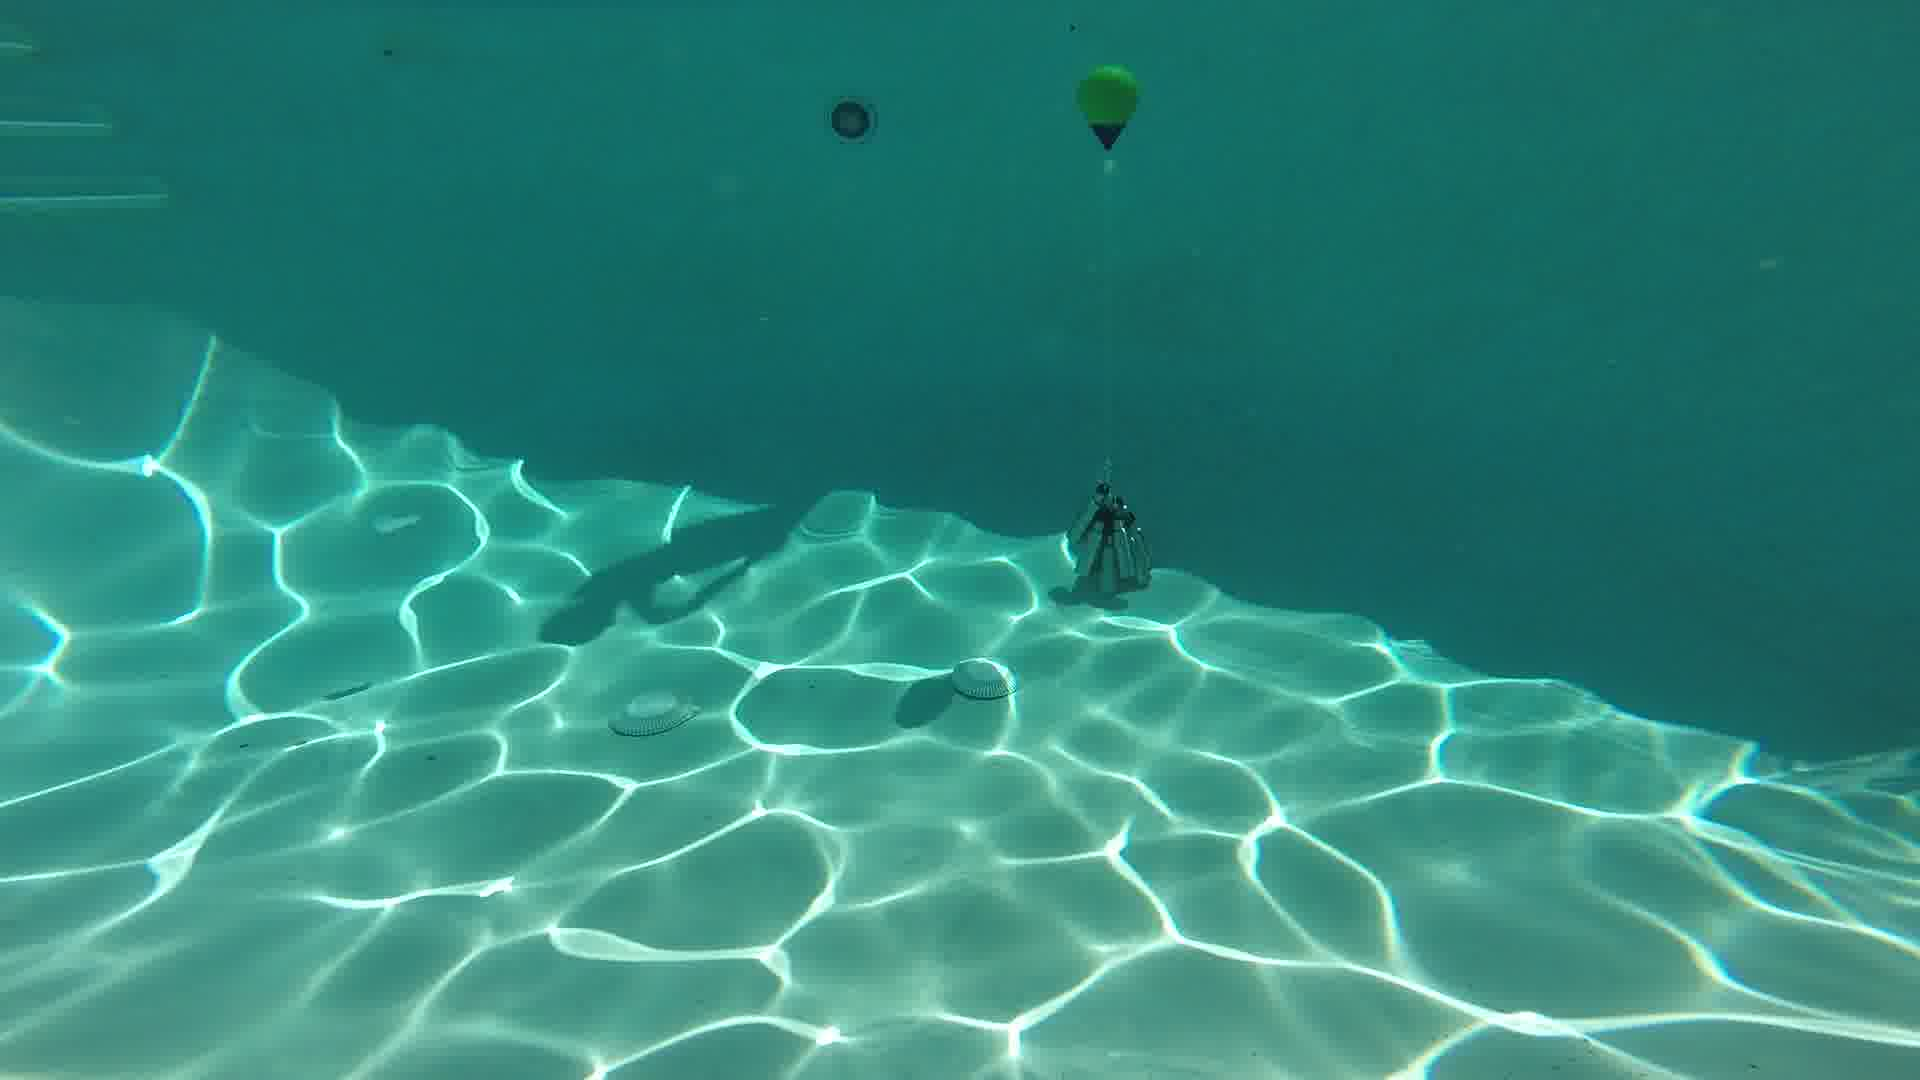yellow_buoy: (1076, 65, 1137, 153)
